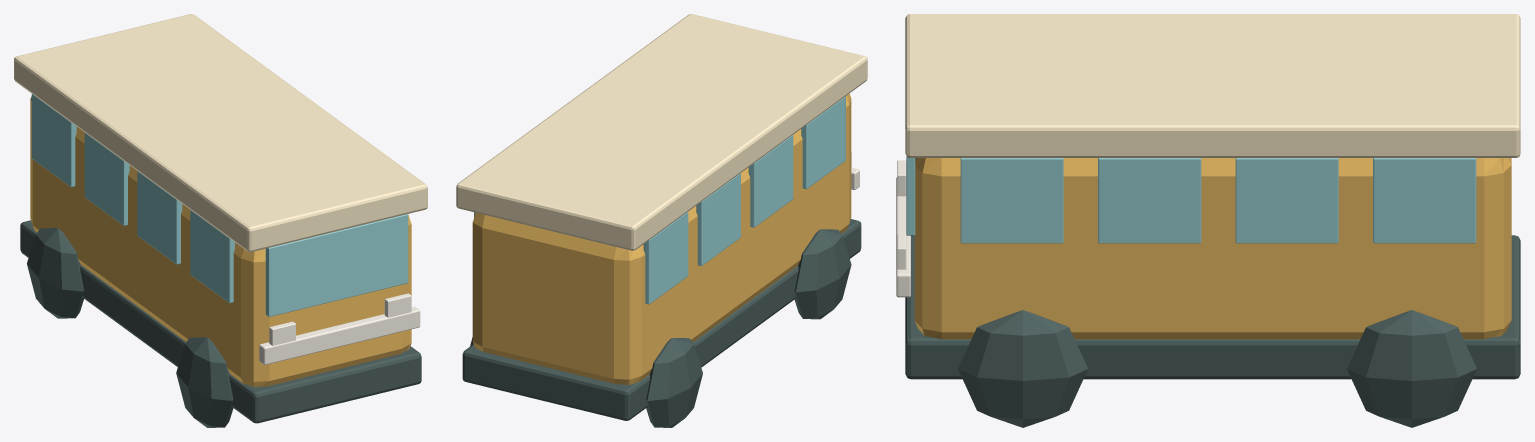
Rendered from bus.glb.
The picture shows the model from 3 angles, left to right: view 1: azimuth 30°, elevation 25°; view 2: azimuth 150°, elevation 25°; view 3: azimuth 270°, elevation 25°; orthographic projection. The views are drawn at different scales.
Visible parts, largest first — view 1: bus; view 2: bus; view 3: bus.
Boxes of the visible parts, x1,y1,x2,y2 form: bus: (14, 14, 427, 427); bus: (456, 14, 867, 427); bus: (896, 14, 1520, 427).
Size of the model in its own units: 1.76 by 1.85 by 3.45.
